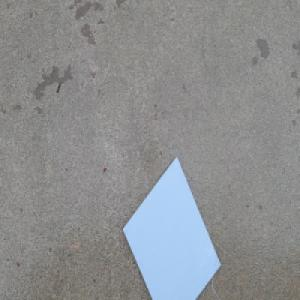PaintChip: (121, 152, 221, 300)
